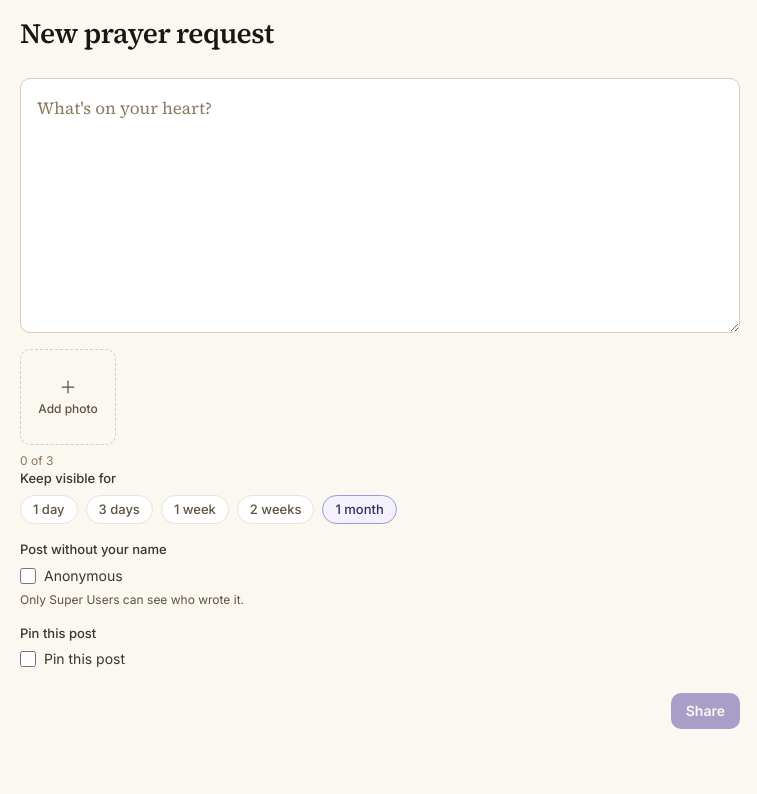
Test case: ComposePage › toggling pin on shows duration picker with 1 week active by default
Expected: the text box named "body" is empty, [20,78,740,333]
Click the checkbox labelled "Pin this post". click: (28, 659)
box: [20,651,36,667]
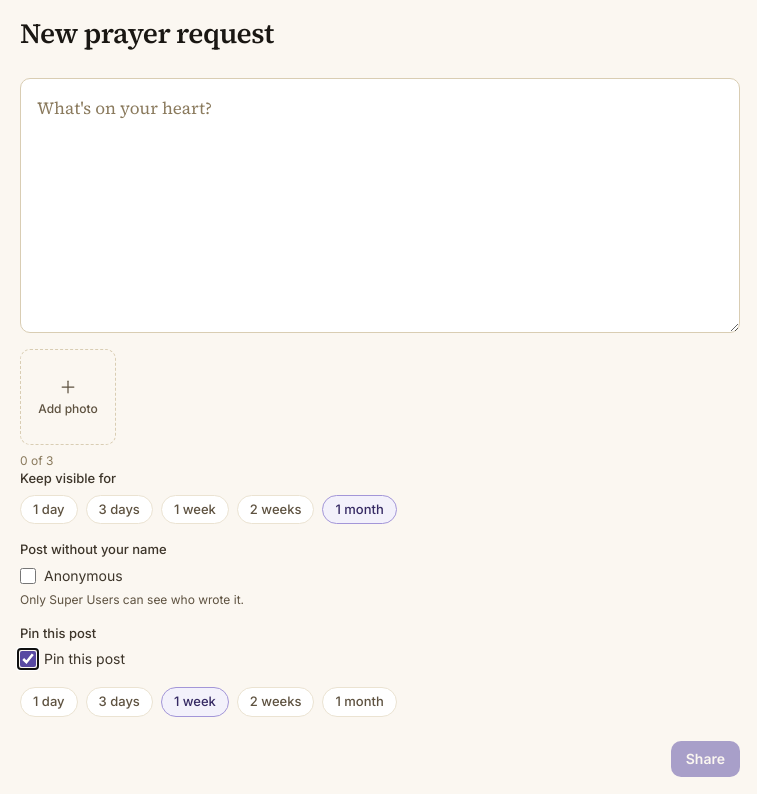
Now the element named "pin for" is shown, box [20,687,397,716]
